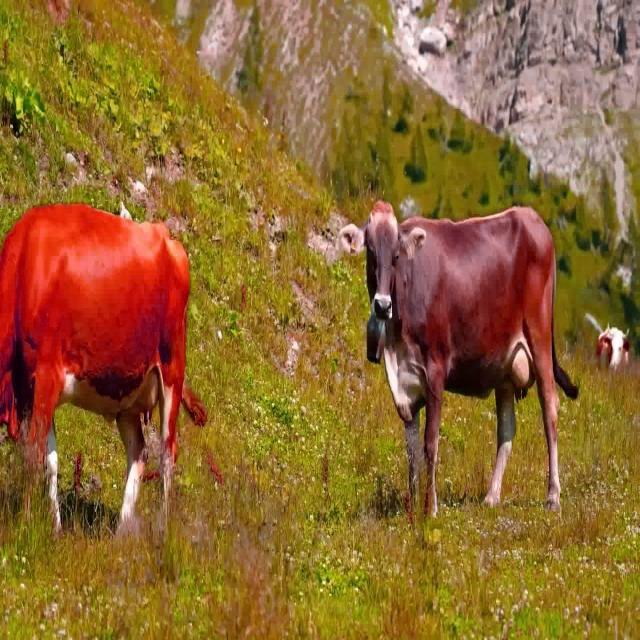cow: (0, 205, 206, 533), (365, 202, 579, 514)
